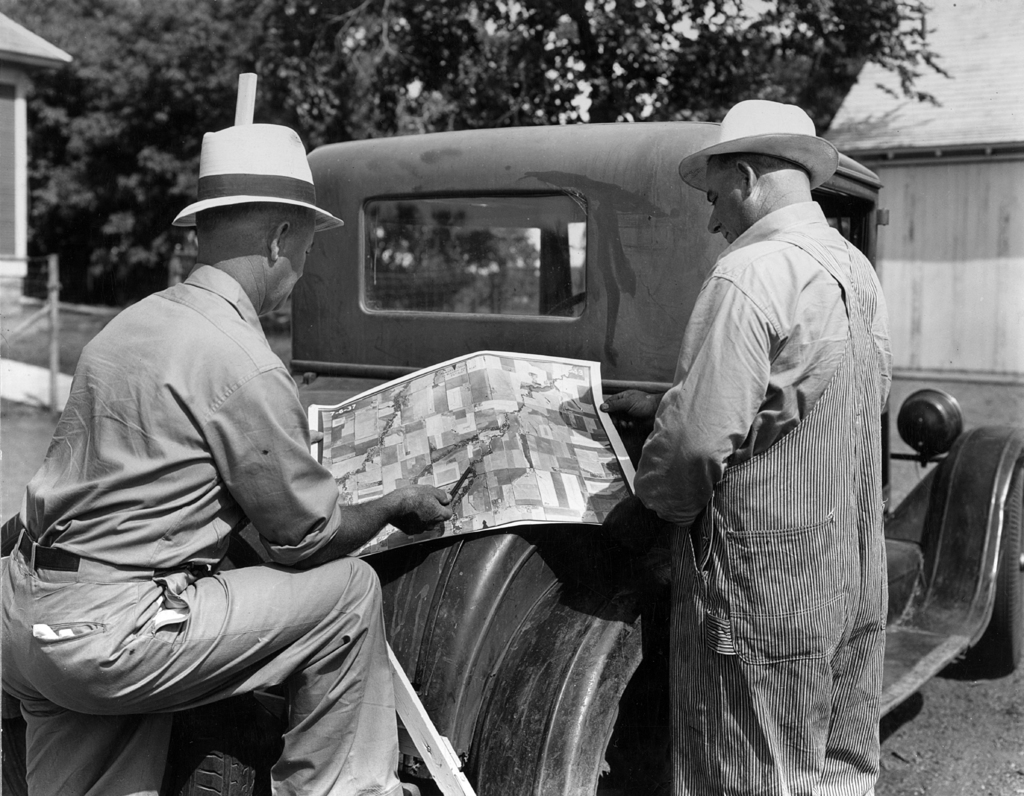Car: (0, 126, 1023, 795)
